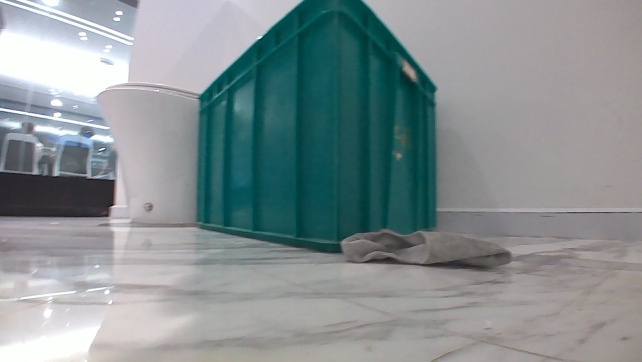socks: (337, 223, 514, 274)
toilet: (91, 75, 201, 230)
